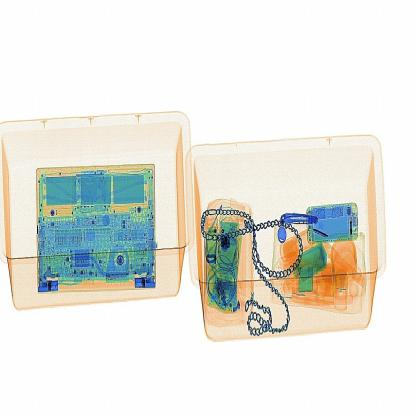knife: (271, 203, 328, 239)
